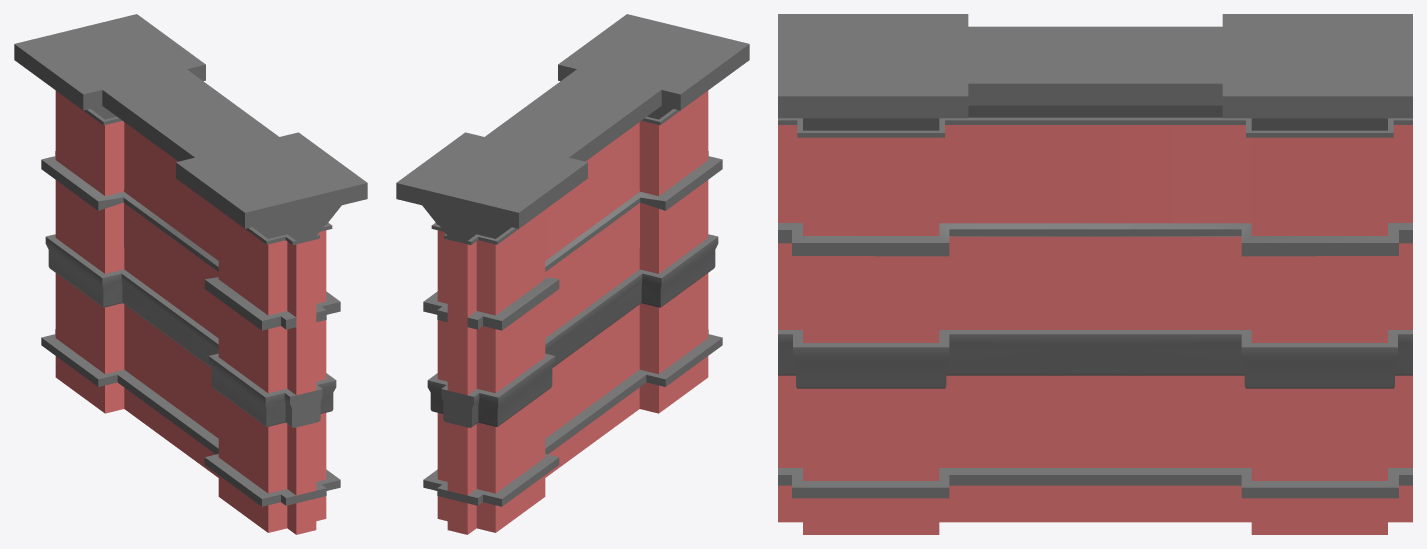
Rendered from WallDoor.fbx.
3 views of the same model, side by side, from view 1: azimuth 30°, elevation 25°; view 2: azimuth 150°, elevation 25°; view 3: azimuth 270°, elevation 25° (orthographic). The views are drawn at different scales.
Parts seen in each view (by area): view 1: Base005; view 2: Base005; view 3: Base005.
Part boxes in pixels (<box>): Base005: <box>14,14,367,534</box>; Base005: <box>396,14,749,534</box>; Base005: <box>778,14,1412,534</box>.
Size of the model in its own units: 1.53 by 4 by 5.
